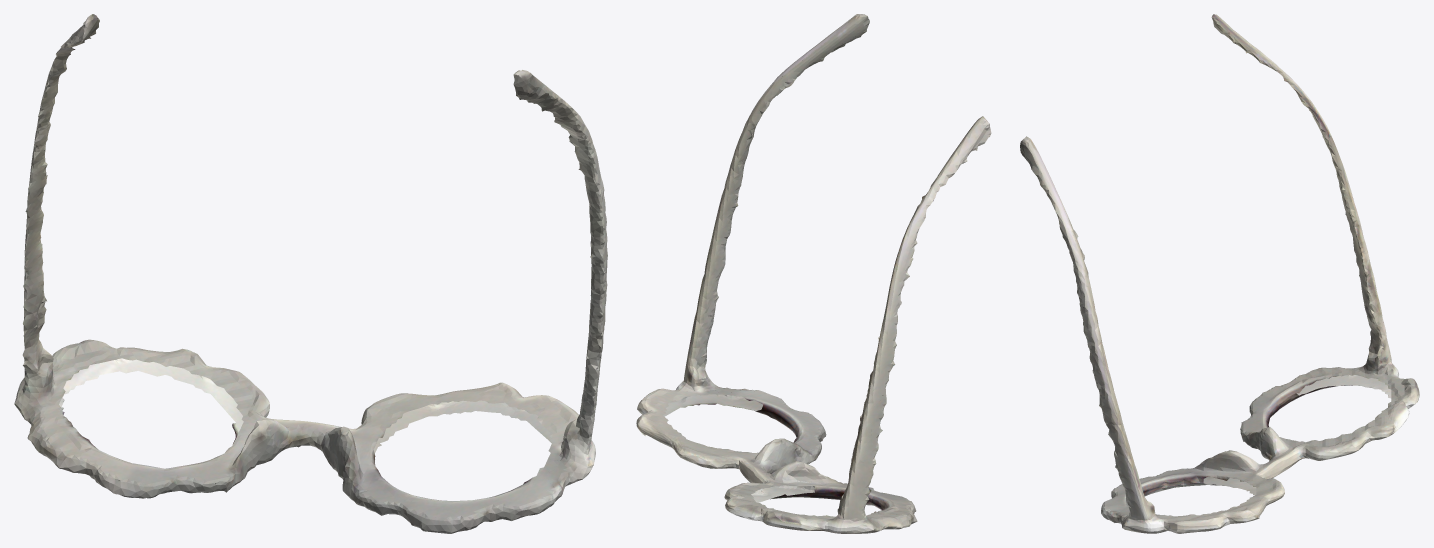
File: eyeglasses1.obj
3 views of the same model, side by side, from view 1: azimuth 30°, elevation 25°; view 2: azimuth 150°, elevation 25°; view 3: azimuth 270°, elevation 25° (orthographic). The views are drawn at different scales.
Bounding box in the file's own units: 118 × 128 × 121.
Materials: 1 (1 with a texture image).
